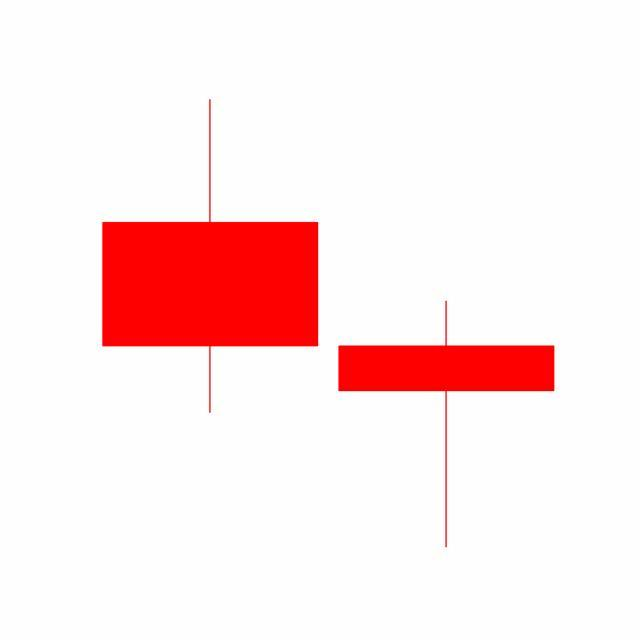Hammer: (328, 298, 566, 551)
